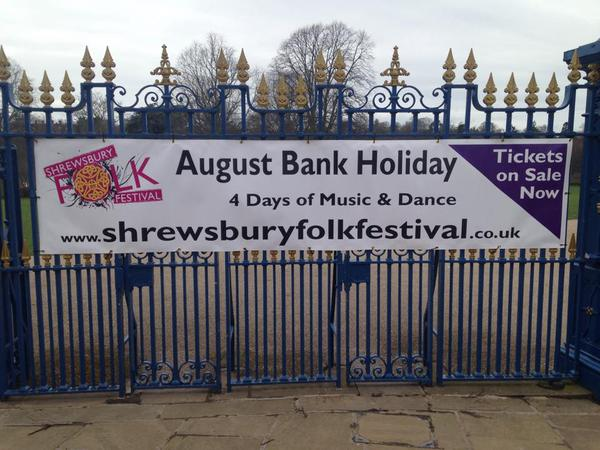vinyl banner: (22, 128, 571, 259)
